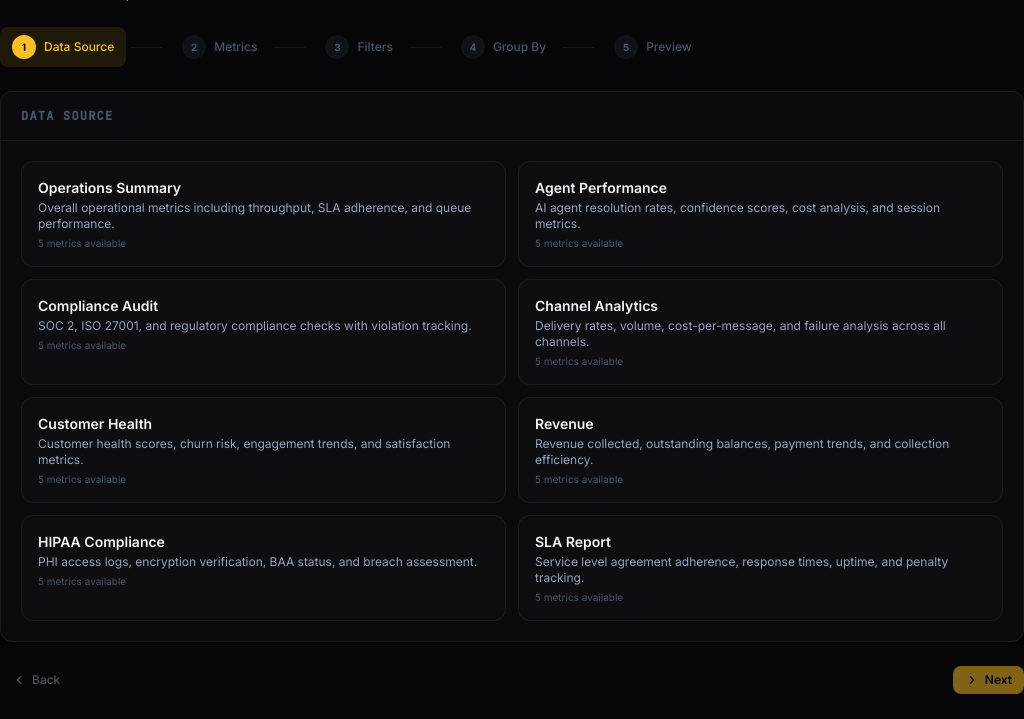
Scenario: ReportBuilder › navigates to Preview step and shows final buttons
This screenshot has width=1024, height=719.
Click the text "Operations Summary". click: (110, 188)
box: [38,179,181,196]
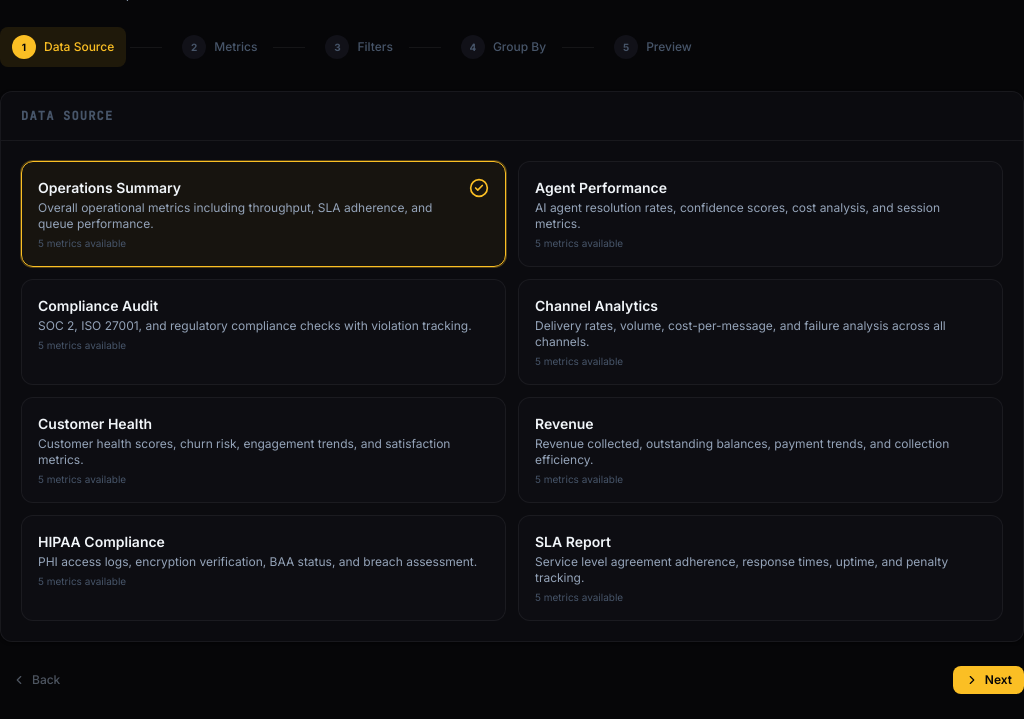
Click the button "Next". click: (988, 680)
box: [953,666,1023,694]
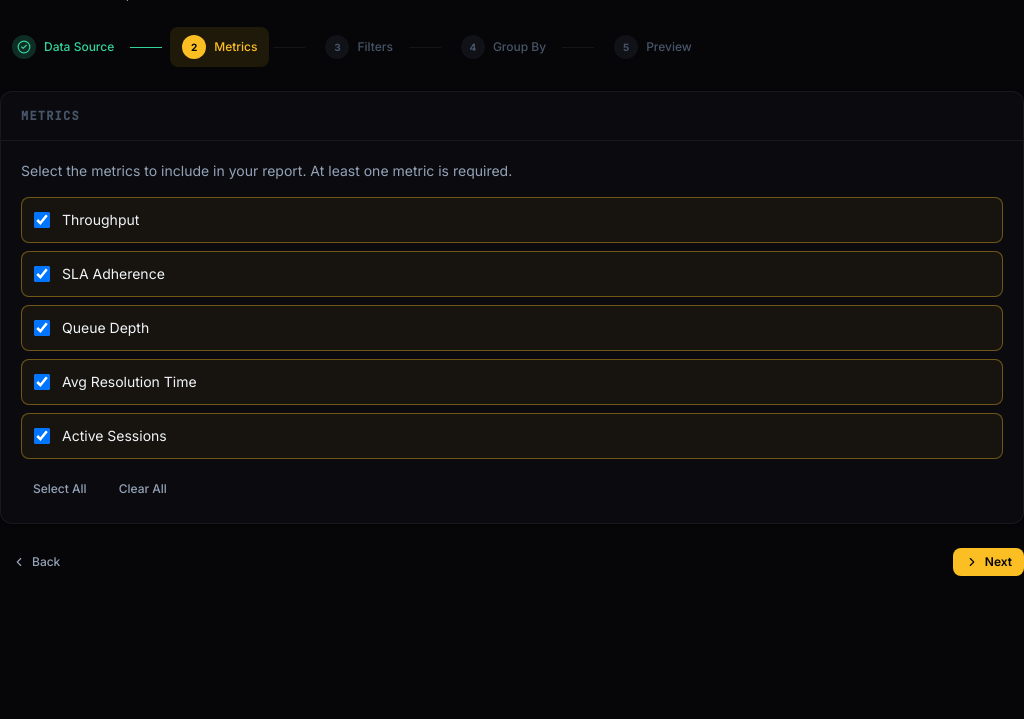
Click the button "Next". click: (988, 562)
box: [953,548,1023,576]
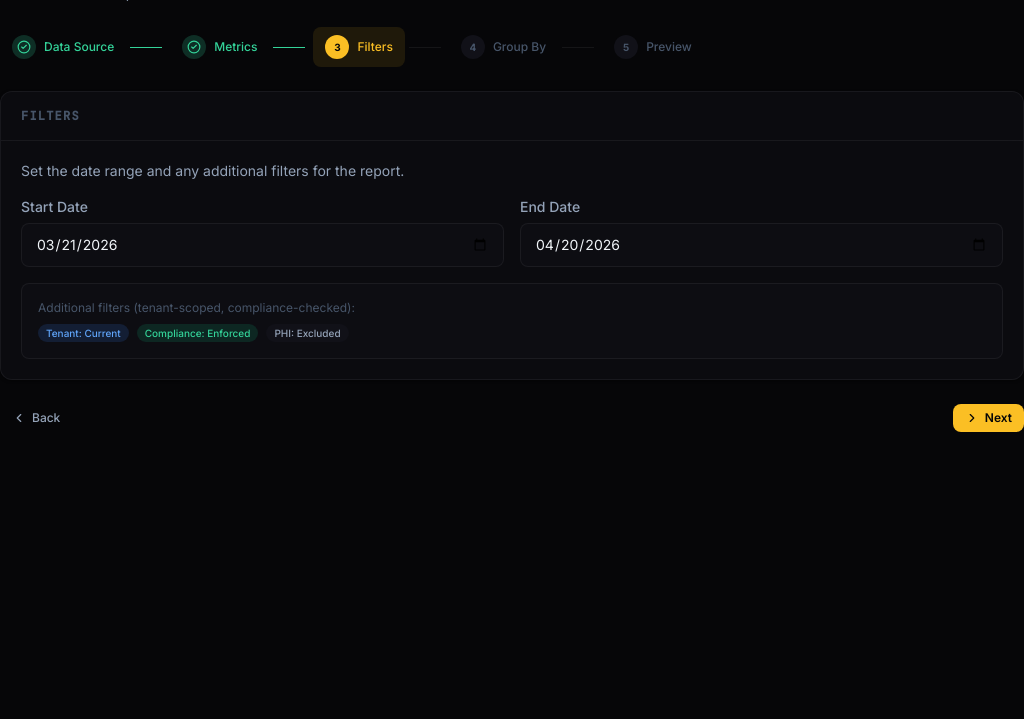
Click the button "Next". click: (988, 418)
box: [953,404,1023,432]
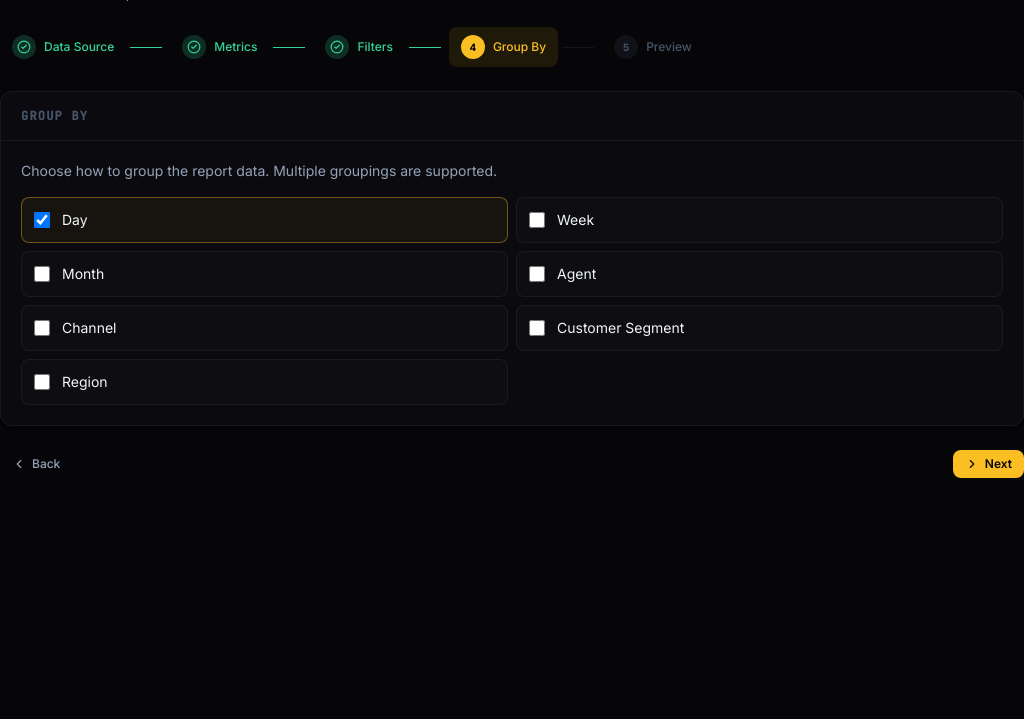
Click the button "Next". click: (988, 464)
box: [953,450,1023,478]
(page scrolled)
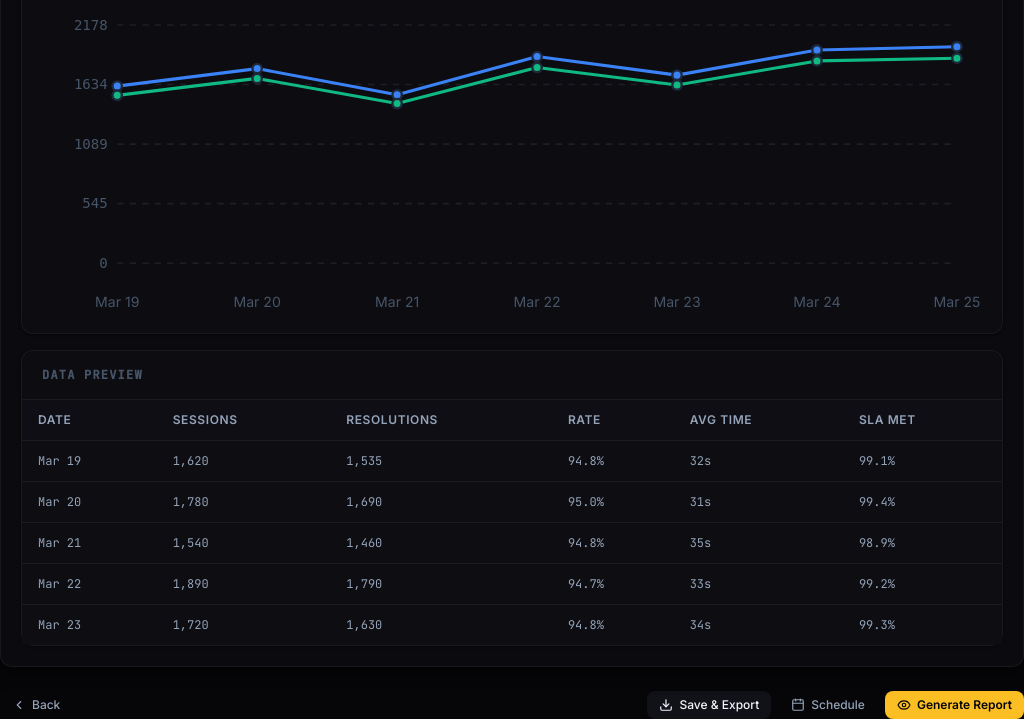
Expected: the button "Save & Export" is shown, [647,691,771,718]
Expected: the button "Generate Report" is shown, [885,691,1023,718]
